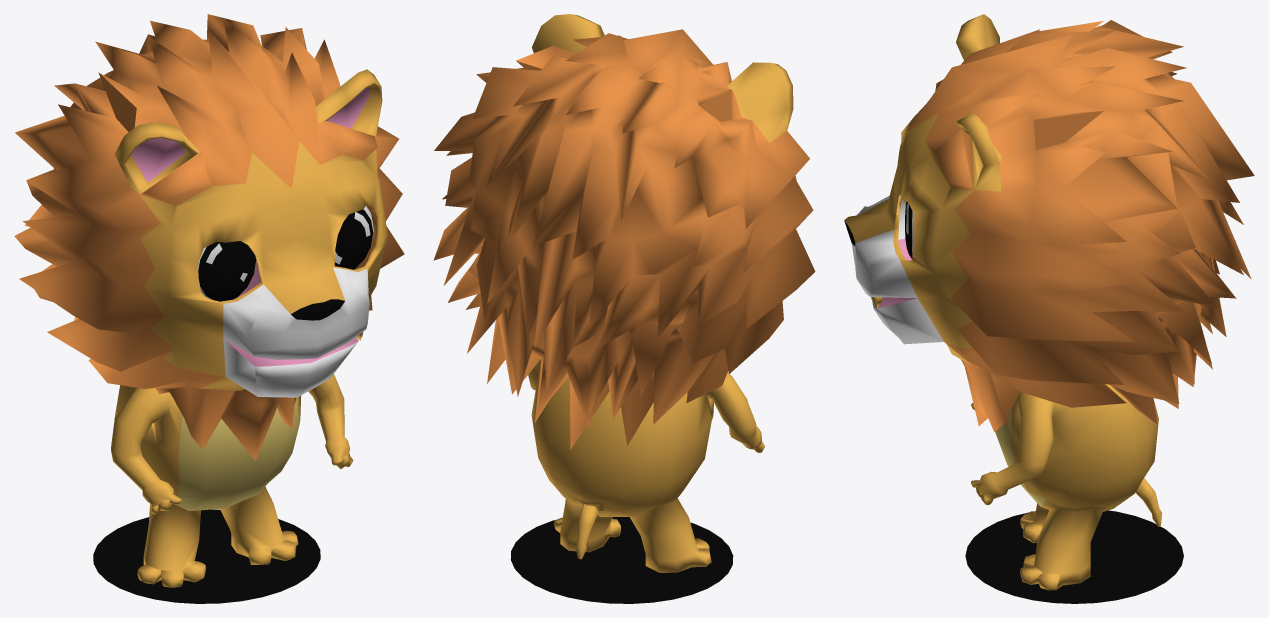
The model's file is gaoreu.glb.
3 renders of one model, left to right at view 1: azimuth 30°, elevation 25°; view 2: azimuth 150°, elevation 25°; view 3: azimuth 270°, elevation 25°, orthographic. The views are drawn at different scales.
Visible parts, largest first — view 1: 眼球.001; view 2: 眼球.001; view 3: 眼球.001.
Part boxes in pixels (left/top/right/bottom): 眼球.001: left=14, top=14, right=404, bottom=603; 眼球.001: left=433, top=14, right=815, bottom=603; 眼球.001: left=844, top=14, right=1254, bottom=603.
Size of the model in its own units: 1.5 by 2.41 by 1.72.
